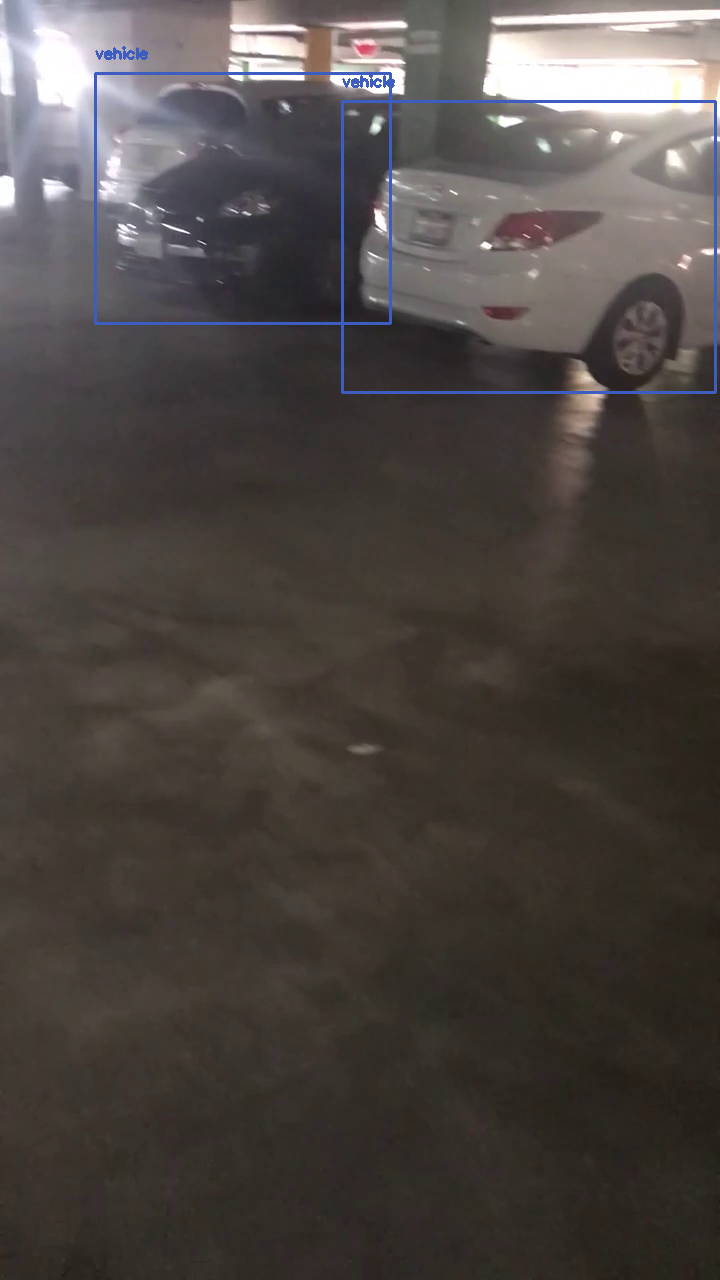vehicle: (342, 101, 715, 392), (95, 73, 390, 323)
